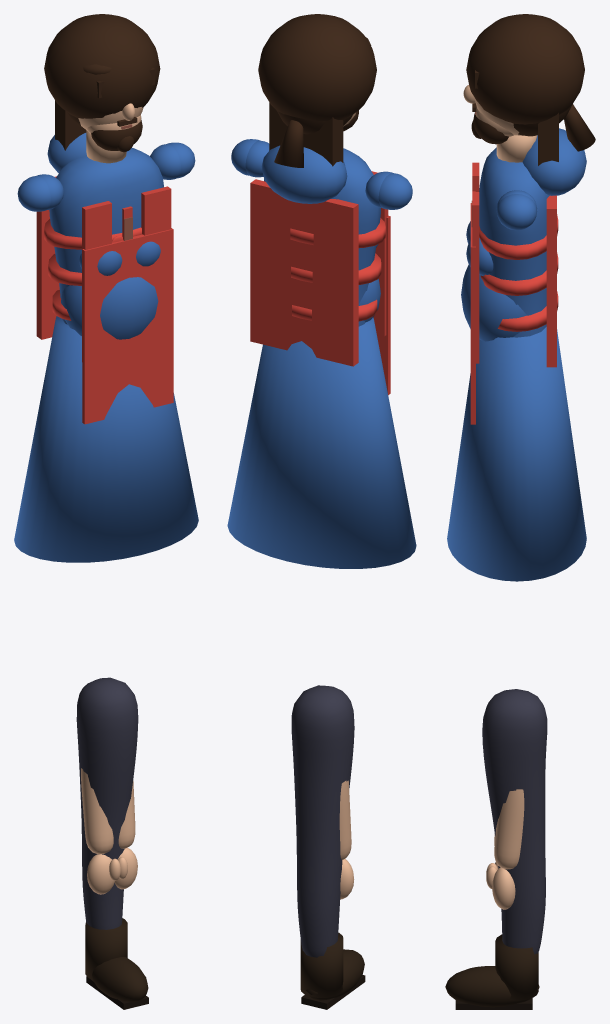
File: people.glb
The picture shows the model from 3 angles, left to right: view 1: azimuth 30°, elevation 25°; view 2: azimuth 150°, elevation 25°; view 3: azimuth 270°, elevation 25°; orthographic projection. The views are drawn at different scales.
Parts seen in each view (by area): view 1: pp_dress_top, pp_apron_top2, pp_hairAfro_hair, pp_torsoM_top, pp_legLThigh_pants, pp_jacket_top2, pp_belly_top, pp_legLShoe_shoe, pp_legLShin_pants, pp_torsoF_top, pp_legRThigh_pants, pp_stripes_top2 (+10 smaller); view 2: pp_dress_top, pp_jacket_top2, pp_hairAfro_hair, pp_legLThigh_pants, pp_legLShin_pants, pp_torsoM_top, pp_hoodie_top, pp_legLShoe_shoe, pp_legRShin_pants, pp_stripes_top2, pp_legRThigh_pants, pp_hairLong_hair (+6 smaller); view 3: pp_dress_top, pp_hairAfro_hair, pp_torsoM_top, pp_legRThigh_pants, pp_legLShoe_shoe, pp_legLShin_pants, pp_legRShin_pants, pp_jacket_top2, pp_legLThigh_pants, pp_stripes_top2, pp_hoodie_top, pp_belly_top (+11 smaller).
Part boxes in pixels (bbox=[...]): pp_dress_top: bbox=[14, 316, 198, 562]; pp_apron_top2: bbox=[82, 228, 173, 424]; pp_hairAfro_hair: bbox=[44, 14, 160, 118]; pp_torsoM_top: bbox=[17, 142, 195, 324]; pp_legLThigh_pants: bbox=[76, 678, 137, 802]; pp_jacket_top2: bbox=[36, 176, 171, 361]; pp_belly_top: bbox=[61, 277, 158, 339]; pp_legLShoe_shoe: bbox=[85, 918, 148, 1002]; pp_legLShin_pants: bbox=[80, 791, 129, 929]; pp_torsoF_top: bbox=[36, 144, 180, 275]; pp_legRThigh_pants: bbox=[80, 677, 138, 802]; pp_stripes_top2: bbox=[44, 219, 141, 320]; pp_dress_top: bbox=[227, 317, 416, 568]; pp_jacket_top2: bbox=[250, 171, 388, 366]; pp_hairAfro_hair: bbox=[258, 14, 376, 121]; pp_legLThigh_pants: bbox=[291, 685, 354, 812]; pp_legLShin_pants: bbox=[296, 809, 342, 957]; pp_torsoM_top: bbox=[231, 139, 412, 326]; pp_hoodie_top: bbox=[261, 145, 347, 203]; pp_legLShoe_shoe: bbox=[300, 933, 364, 1000]; pp_legRShin_pants: bbox=[295, 805, 341, 957]; pp_stripes_top2: bbox=[290, 218, 385, 321]; pp_legRThigh_pants: bbox=[291, 686, 353, 811]; pp_hairLong_hair: bbox=[269, 102, 343, 166]; pp_dress_top: bbox=[447, 327, 586, 581]; pp_hairAfro_hair: bbox=[466, 14, 584, 124]; pp_torsoM_top: bbox=[479, 147, 549, 337]; pp_legRThigh_pants: bbox=[482, 689, 547, 814]; pp_legLShoe_shoe: bbox=[445, 934, 539, 1007]; pp_legLShin_pants: bbox=[491, 808, 545, 954]; pp_legRShin_pants: bbox=[491, 804, 545, 953]; pp_jacket_top2: bbox=[472, 162, 556, 367]; pp_legLThigh_pants: bbox=[482, 689, 546, 814]; pp_stripes_top2: bbox=[479, 214, 558, 331]; pp_hoodie_top: bbox=[522, 128, 586, 195]; pp_belly_top: bbox=[461, 264, 526, 341].
Bounding box in the file's own units: 0.584 × 3.12 × 0.4303.
